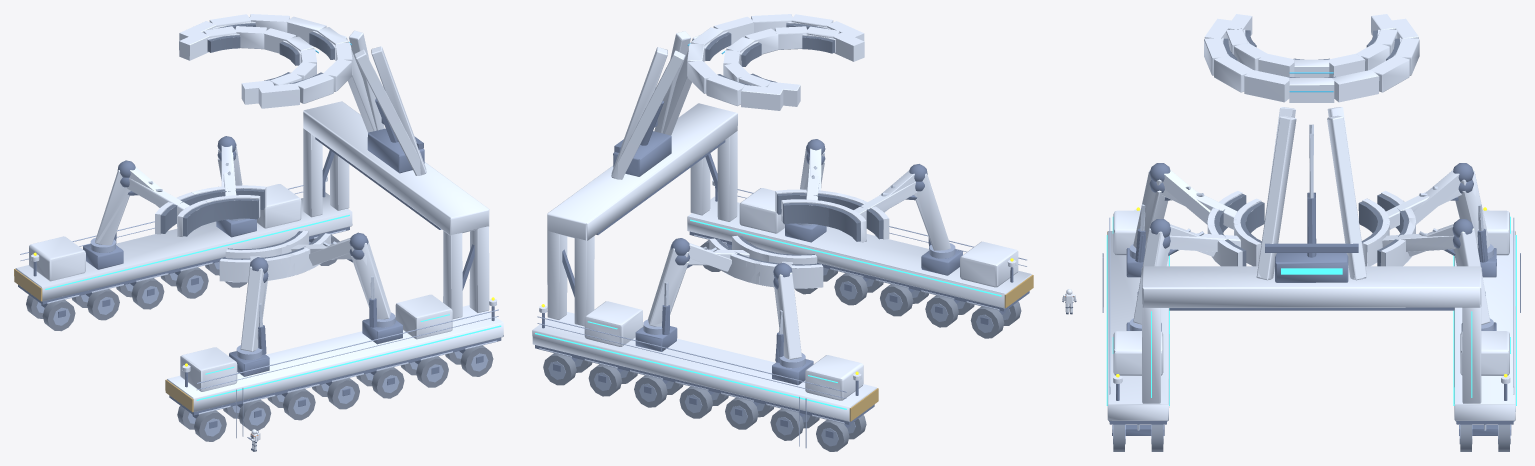
Rendered from st10b_game.glb.
3 views of the same model, side by side, from view 1: azimuth 30°, elevation 25°; view 2: azimuth 150°, elevation 25°; view 3: azimuth 270°, elevation 25° (orthographic). The views are drawn at different scales.
Visible parts, largest first — view 1: Body_Paint, Cradle_Empty, Cradle_Loaded, Body_GlowCyan; view 2: Body_Paint, Cradle_Empty, Cradle_Loaded, Body_GlowCyan; view 3: Body_Paint, Cradle_Empty, Cradle_Loaded, Body_GlowCyan.
Boxes of the visible parts, x1=… form: Body_Paint: x1=14, y1=101, x2=503, y2=441; Cradle_Empty: x1=95, y1=14, x2=426, y2=354; Cradle_Loaded: x1=96, y1=26, x2=426, y2=353; Body_GlowCyan: x1=45, y1=214, x2=501, y2=400; Body_Paint: x1=532, y1=103, x2=1033, y2=451; Cradle_Empty: x1=611, y1=14, x2=950, y2=362; Cradle_Loaded: x1=611, y1=26, x2=934, y2=362; Body_GlowCyan: x1=535, y1=219, x2=1001, y2=409; Body_Paint: x1=1102, y1=209, x2=1520, y2=451; Cradle_Empty: x1=1133, y1=18, x2=1490, y2=324; Cradle_Loaded: x1=1133, y1=14, x2=1489, y2=324; Body_GlowCyan: x1=1106, y1=216, x2=1516, y2=405.
Size of the model in its own units: 28.18 by 25.21 by 31.23.
